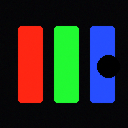2 circle: (97, 55, 119, 77)
